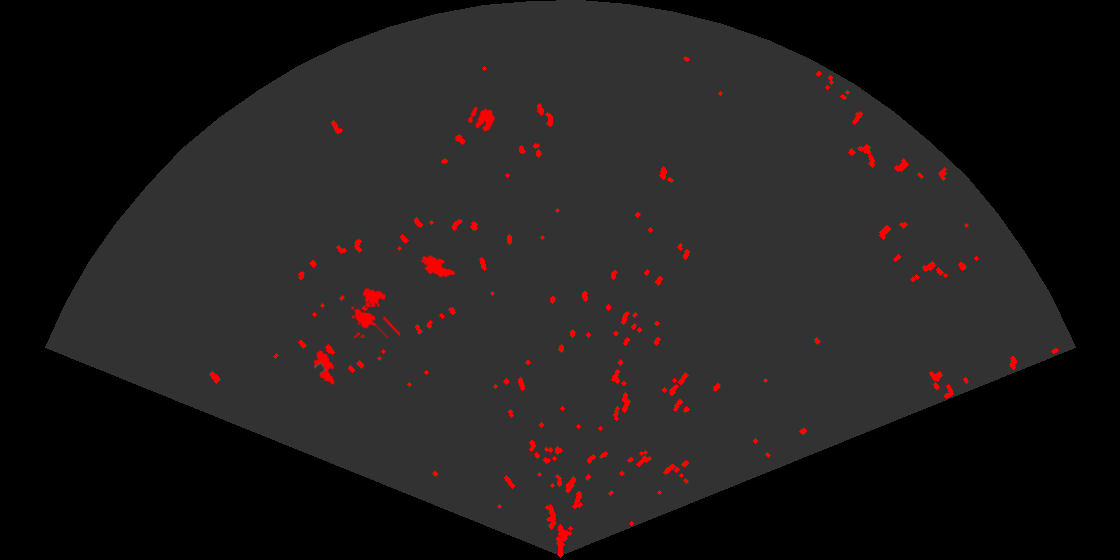AUV: (419, 253, 457, 279), (312, 348, 337, 387)
ball: (466, 105, 497, 134)
cage: (349, 286, 400, 338)
